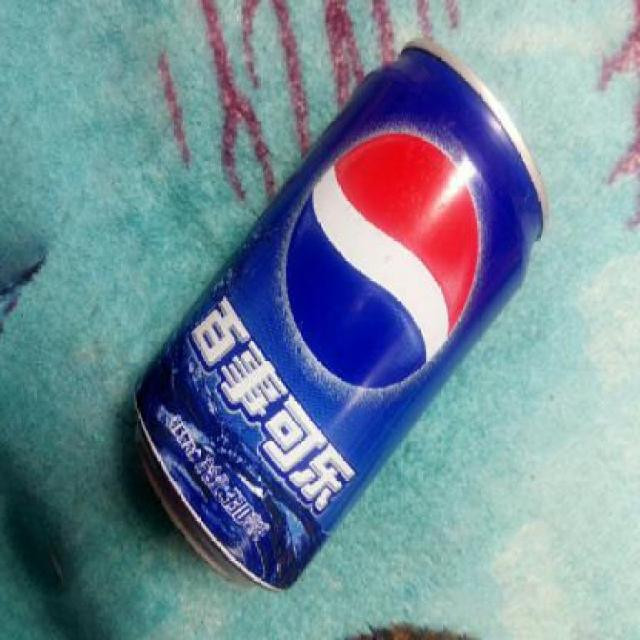Metal: (134, 37, 551, 594)
